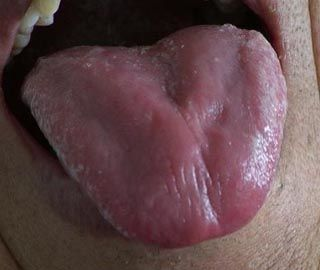baitaishe: (21, 24, 287, 248)
botaishe: (139, 38, 176, 59)
liewenshe: (160, 73, 220, 224)
